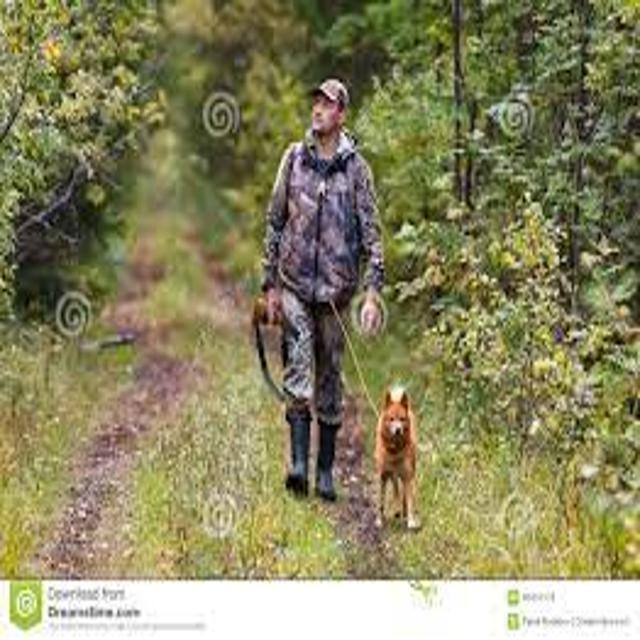Dog: (366, 360, 454, 534)
